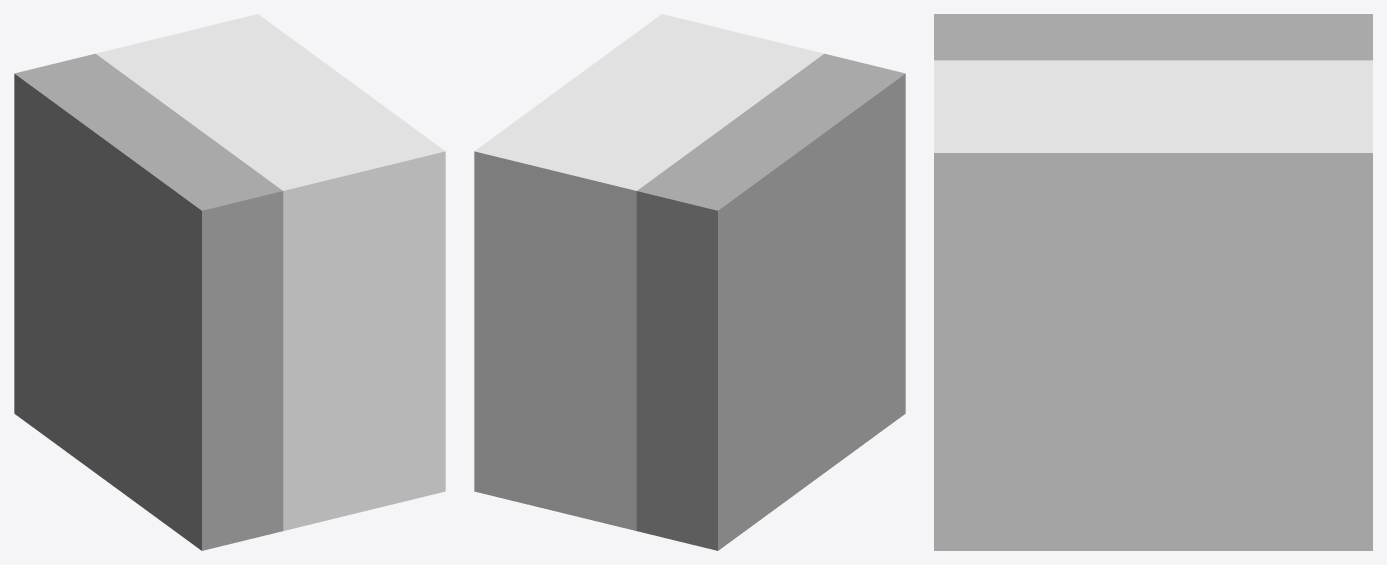
Rendered from sleeve_R.fbx.
The picture shows the model from 3 angles, left to right: view 1: azimuth 30°, elevation 25°; view 2: azimuth 150°, elevation 25°; view 3: azimuth 270°, elevation 25°; orthographic projection. The views are drawn at different scales.
Visible parts, largest first — view 1: sleeve_R; view 2: sleeve_R; view 3: sleeve_R.
Boxes of the visible parts, bbox=[...] form: sleeve_R: bbox=[14, 14, 445, 550]; sleeve_R: bbox=[474, 14, 905, 550]; sleeve_R: bbox=[934, 14, 1372, 550].
Bounding box in the file's own units: 30 × 40 × 40.
Materials: 1 (1 with a texture image).
